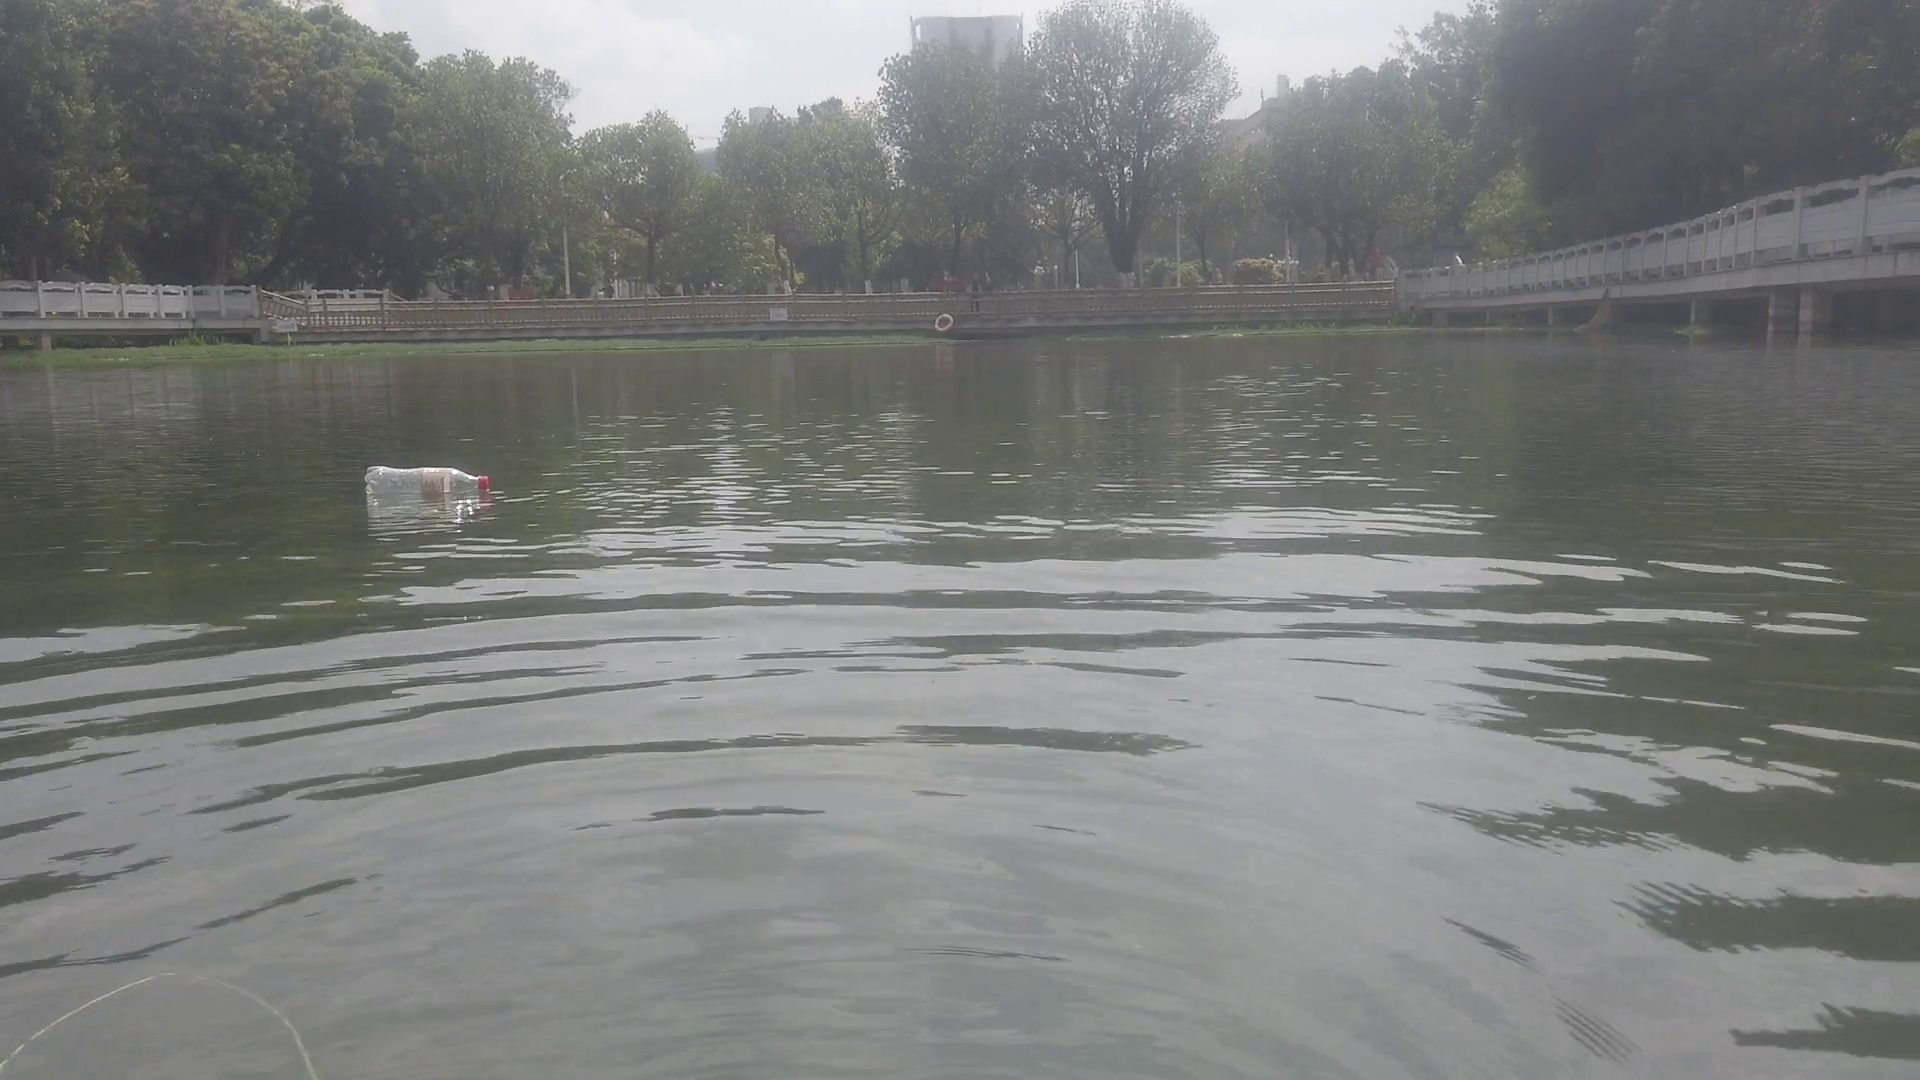bottle: (360, 462, 492, 501)
